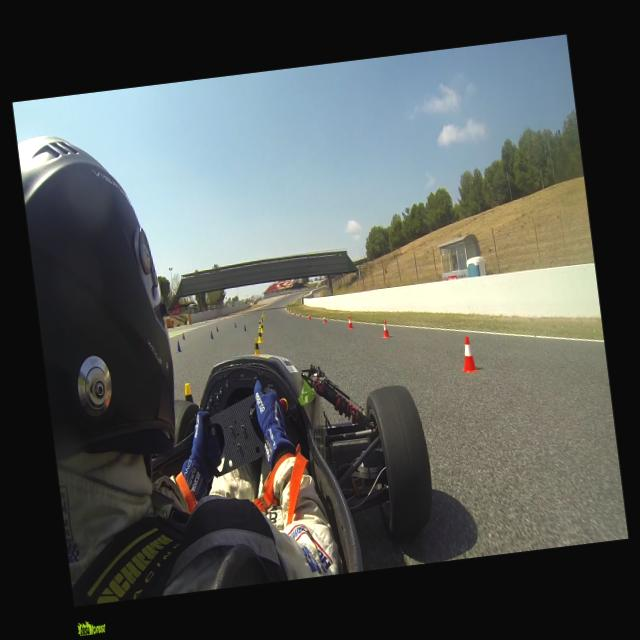blue_cone: (177, 340, 180, 351), (243, 324, 246, 331), (182, 332, 185, 339), (210, 330, 212, 339), (215, 325, 218, 331), (234, 321, 236, 327)
orange_cone: (458, 335, 477, 372), (381, 319, 390, 338), (348, 316, 352, 328), (323, 314, 326, 322), (308, 312, 310, 320), (299, 312, 301, 317)
yellow_cone: (183, 382, 194, 406), (251, 337, 261, 358), (257, 328, 263, 342), (260, 322, 264, 332), (258, 319, 260, 326), (261, 316, 263, 322)
